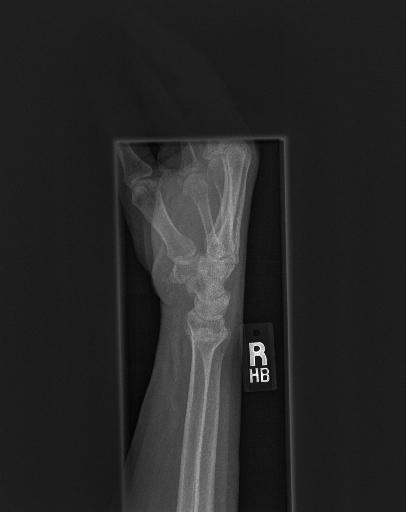fractured: (178, 318, 231, 356)
